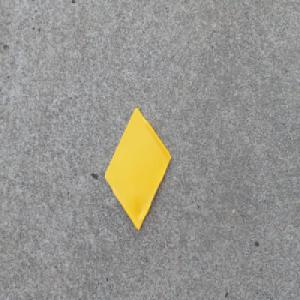PlasticPart: (103, 108, 172, 235)
